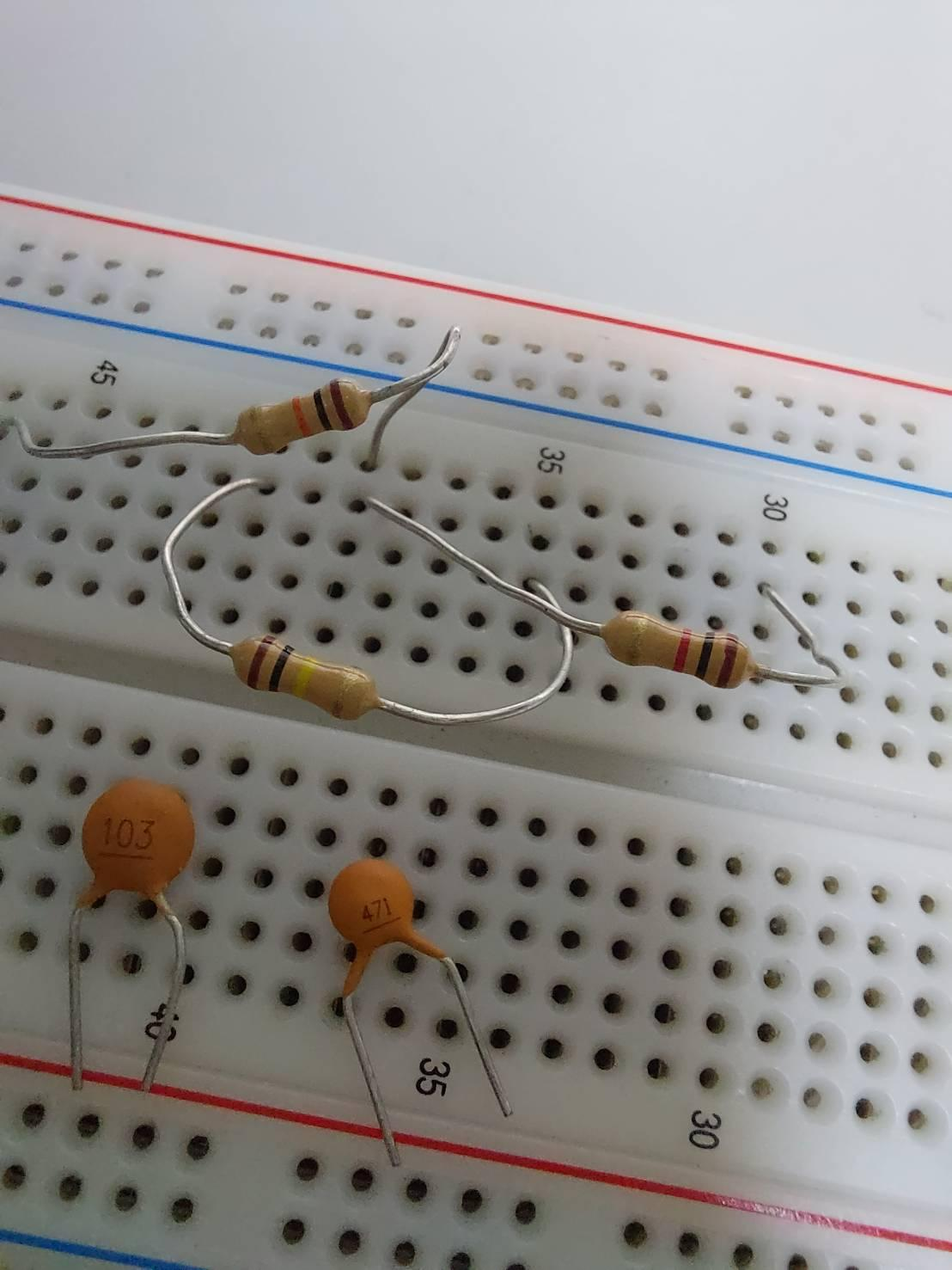resistor: (228, 622, 378, 726), (605, 604, 757, 695), (231, 382, 371, 454)
